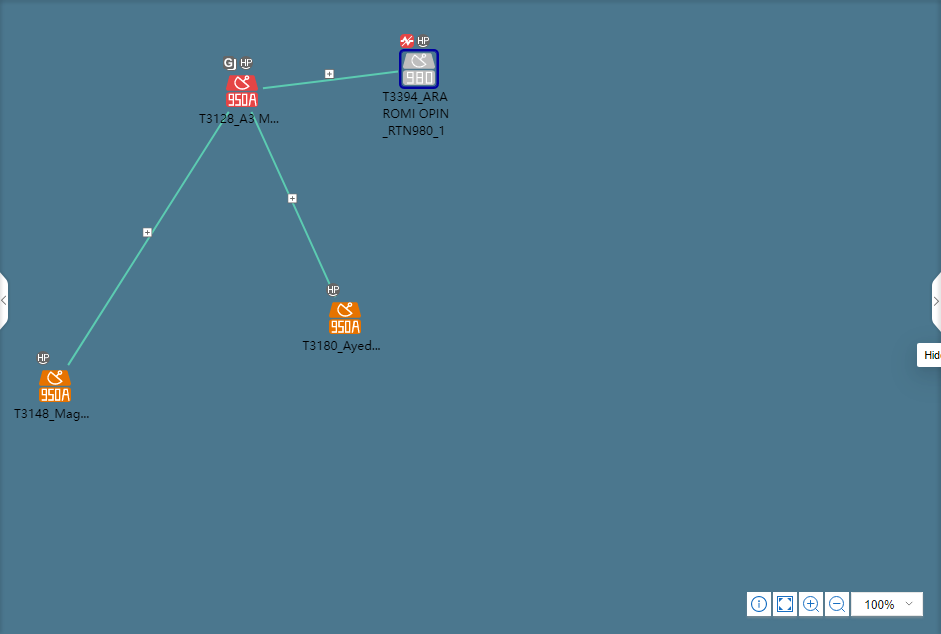Link_Blue: (66, 112, 231, 368), (249, 112, 331, 285), (263, 70, 398, 90)
RTN_Gray: (400, 52, 436, 87)
RTN_Orange: (39, 371, 70, 403), (329, 303, 360, 334)
RTN_Red: (226, 75, 257, 107)
